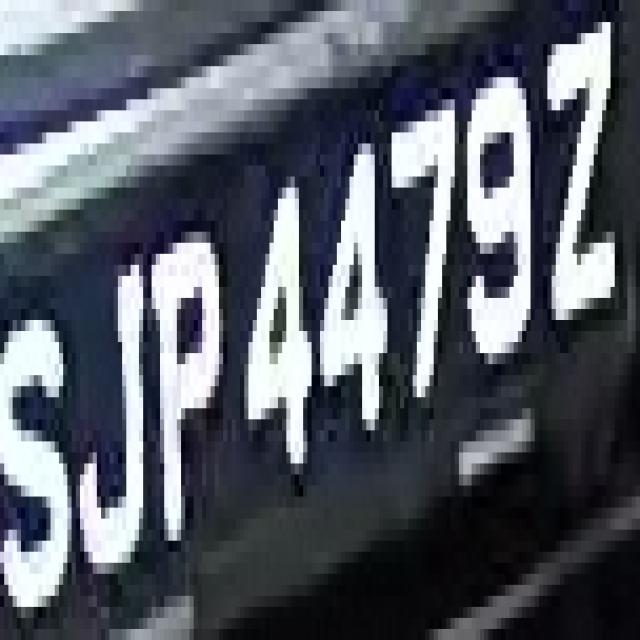4: (312, 132, 412, 474), (236, 155, 324, 508)
7: (379, 78, 463, 452)
9: (450, 56, 539, 430)
J: (80, 198, 152, 596)
P: (143, 232, 236, 596)
S: (9, 254, 84, 618)
Z: (530, 33, 640, 342)
